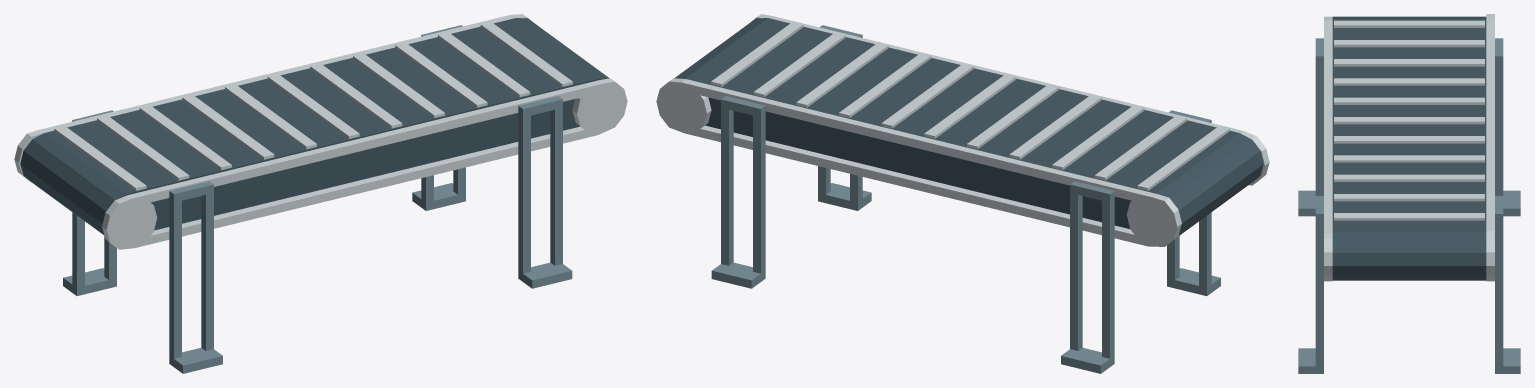
3 renders of one model, left to right at view 1: azimuth 30°, elevation 25°; view 2: azimuth 150°, elevation 25°; view 3: azimuth 270°, elevation 25°, orthographic. The views are drawn at different scales.
Parts seen in each view (by area): view 1: group_1751849987, group_1395806188, group_600698695, group_1439868329, group_1875178703, group_1407714466, group_955717307, group_1864052554; view 2: group_1751849987, group_1407714466, group_600698695, group_1864052554, group_955717307, group_1875178703, group_1395806188, group_1439868329; view 3: group_1751849987, group_600698695, group_1407714466, group_1395806188, group_1439868329, group_1864052554, group_1875178703, group_955717307.
Boxes of the visible parts, x1,y1,x2,y2 form: group_1751849987: [20, 18, 609, 234]; group_1395806188: [102, 78, 627, 249]; group_600698695: [54, 22, 572, 190]; group_1439868329: [518, 96, 572, 288]; group_1875178703: [169, 181, 222, 373]; group_1407714466: [14, 14, 532, 182]; group_955717307: [63, 110, 116, 295]; group_1864052554: [412, 25, 465, 210]; group_1751849987: [674, 18, 1263, 235]; group_1407714466: [656, 78, 1181, 246]; group_600698695: [711, 22, 1229, 190]; group_1864052554: [711, 96, 765, 288]; group_955717307: [1061, 181, 1114, 373]; group_1875178703: [1167, 110, 1220, 295]; group_1395806188: [751, 14, 1269, 185]; group_1439868329: [818, 25, 871, 210]; group_1751849987: [1332, 16, 1486, 280]; group_600698695: [1334, 20, 1484, 220]; group_1407714466: [1486, 14, 1494, 281]; group_1395806188: [1324, 16, 1332, 281]; group_1439868329: [1298, 196, 1323, 373]; group_1864052554: [1495, 196, 1520, 373]; group_1875178703: [1298, 38, 1323, 216]; group_955717307: [1495, 38, 1520, 216].
Size of the model in its own units: 196 by 64 by 78.
